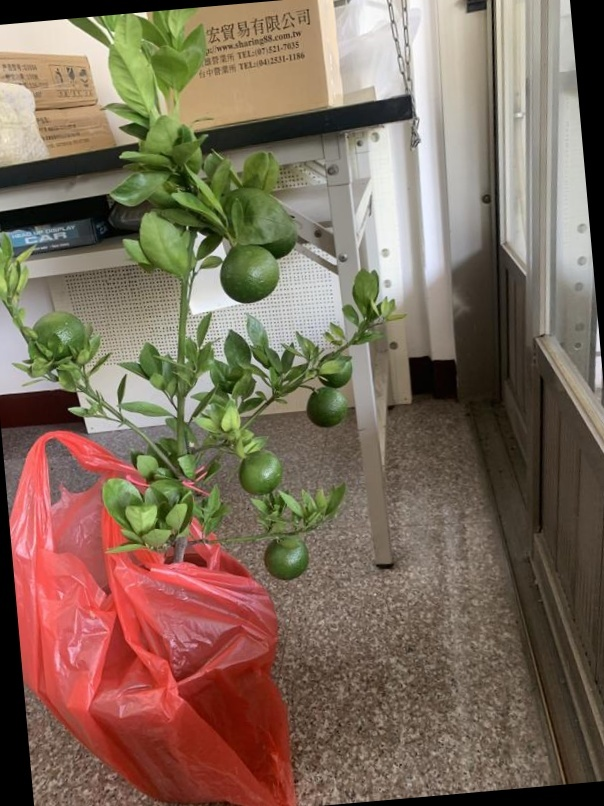Tangerine: (222, 240, 281, 306), (259, 534, 313, 581), (238, 448, 283, 499), (306, 382, 350, 430)
